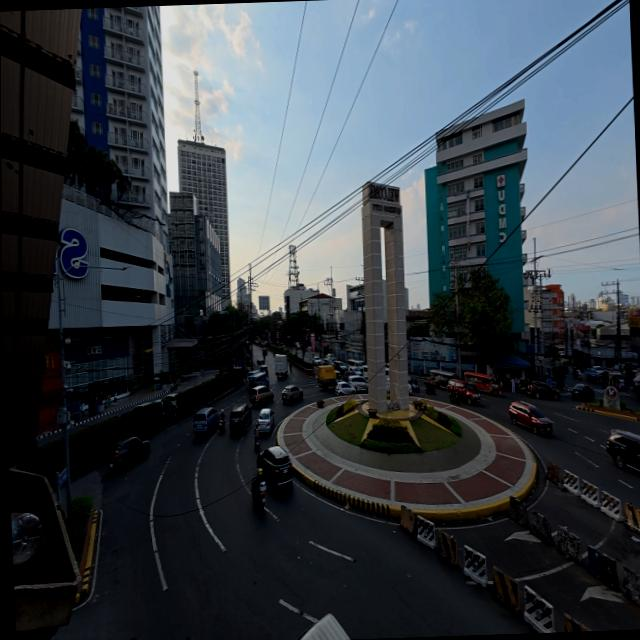Jeepneys: (463, 371, 500, 396), (429, 370, 455, 388), (247, 371, 268, 392)
car: (256, 446, 292, 487), (106, 437, 148, 472), (605, 430, 639, 472), (508, 402, 551, 434), (192, 407, 218, 436), (451, 380, 479, 404), (229, 404, 251, 433), (526, 382, 559, 400), (249, 386, 272, 406), (256, 408, 273, 432), (281, 385, 302, 403), (570, 385, 593, 401), (342, 366, 362, 382), (347, 376, 367, 392), (606, 371, 623, 389), (335, 381, 355, 396), (164, 393, 177, 414), (130, 401, 153, 411), (333, 361, 346, 375), (446, 378, 458, 392), (347, 366, 361, 375), (323, 355, 333, 364), (313, 357, 322, 365), (408, 377, 412, 395)
motorcycle: (251, 482, 265, 510), (425, 381, 435, 394), (254, 424, 258, 451), (449, 390, 456, 402), (412, 380, 419, 392), (218, 419, 224, 432), (170, 381, 177, 391), (254, 436, 258, 451)
trucks: (316, 365, 336, 390), (274, 355, 287, 378)
vans: (347, 359, 364, 369)
